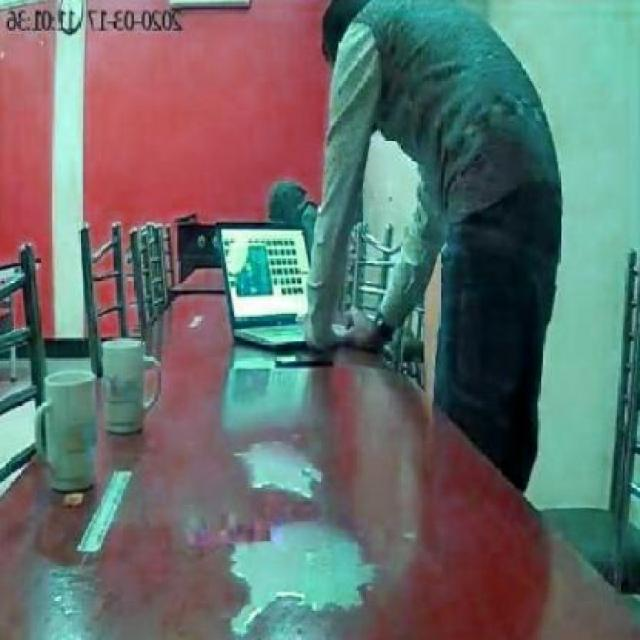spillage: (231, 443, 373, 633)
